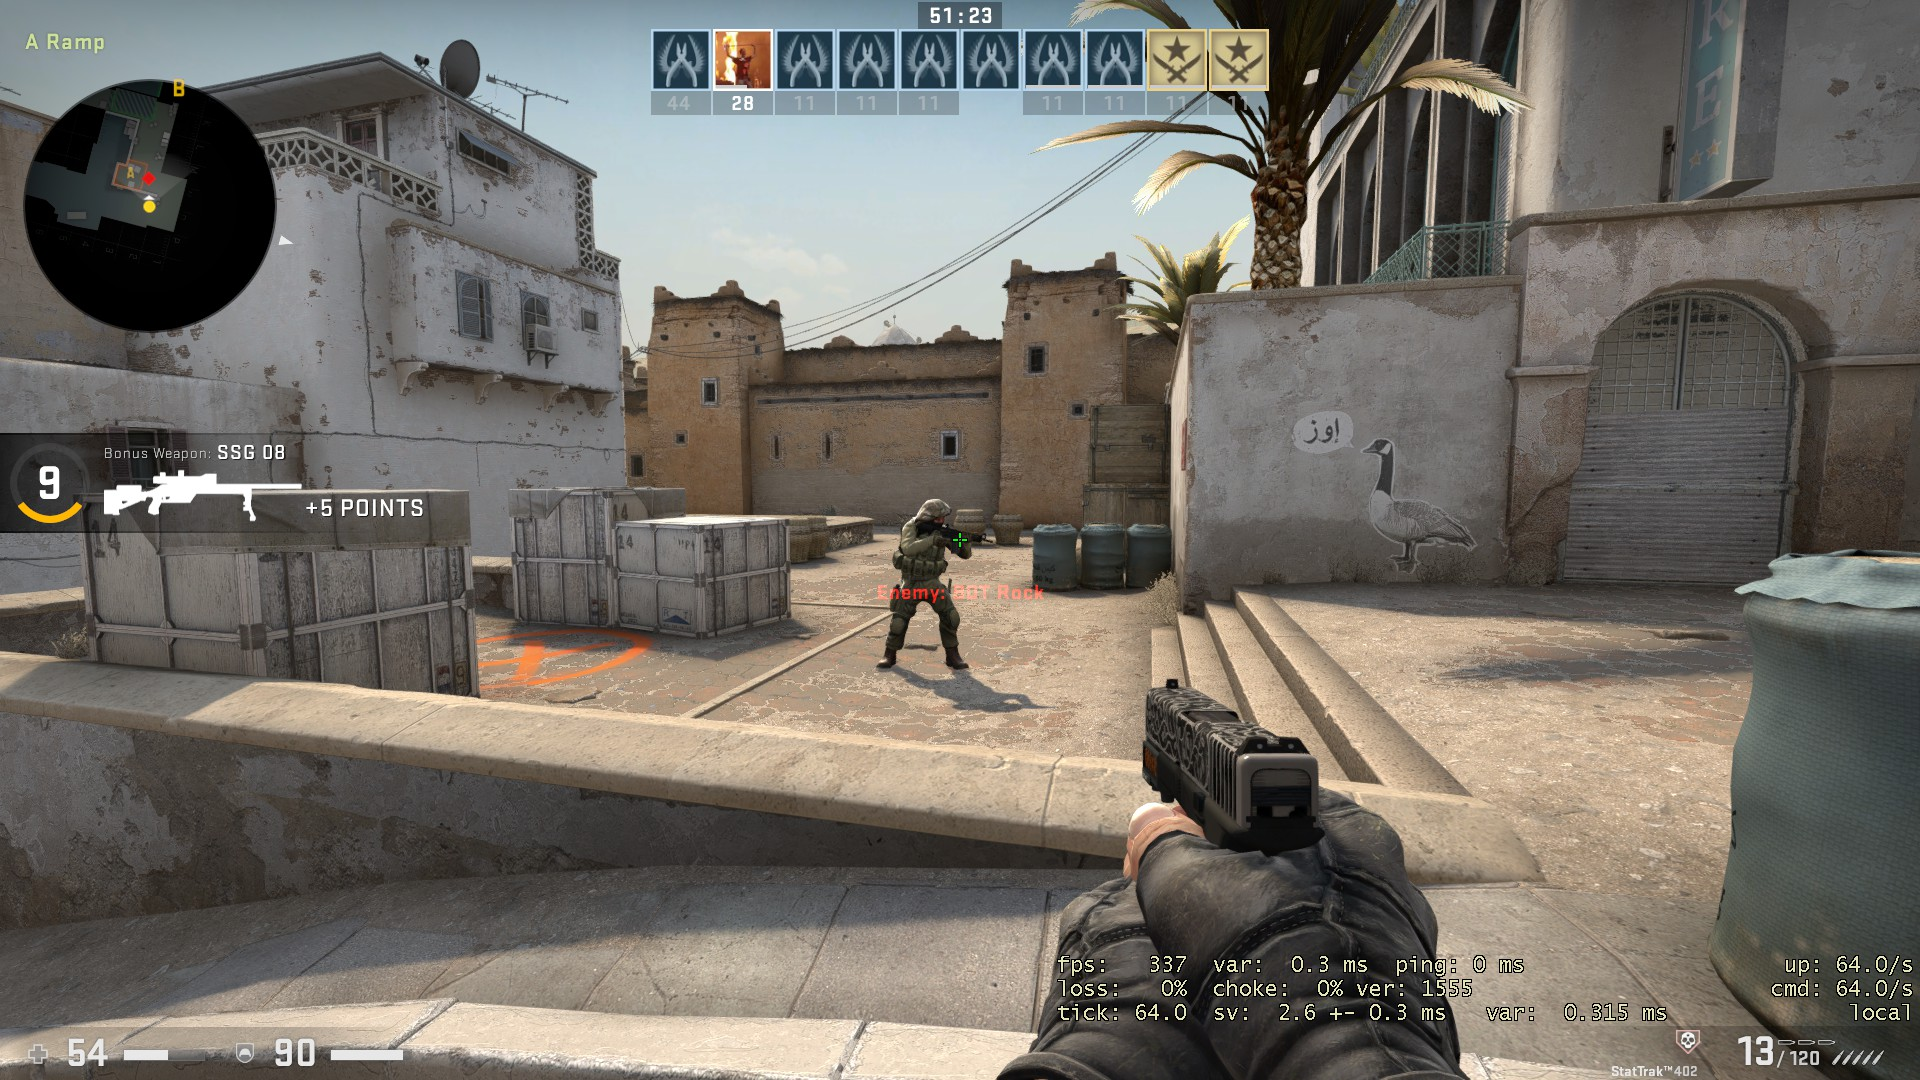ct: (873, 494, 977, 673)
player: (870, 493, 1000, 673)
t: (873, 496, 977, 675)
